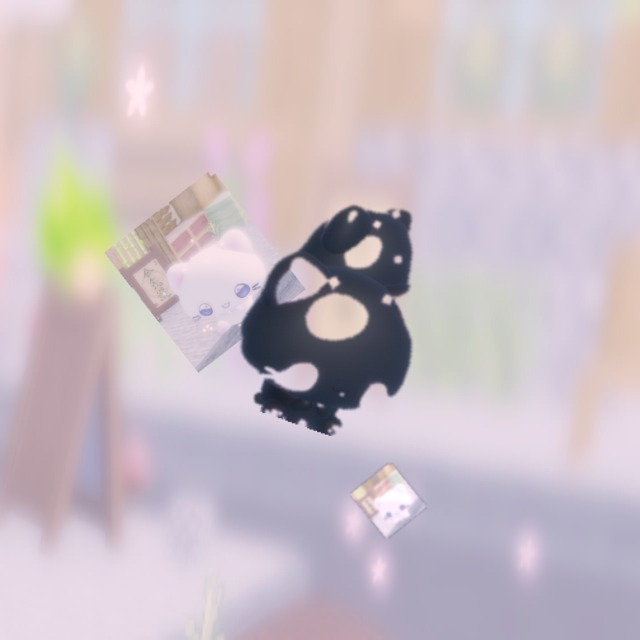urso_branco: (104, 169, 306, 373), (350, 462, 427, 539)
urso_preto: (209, 153, 480, 460)
